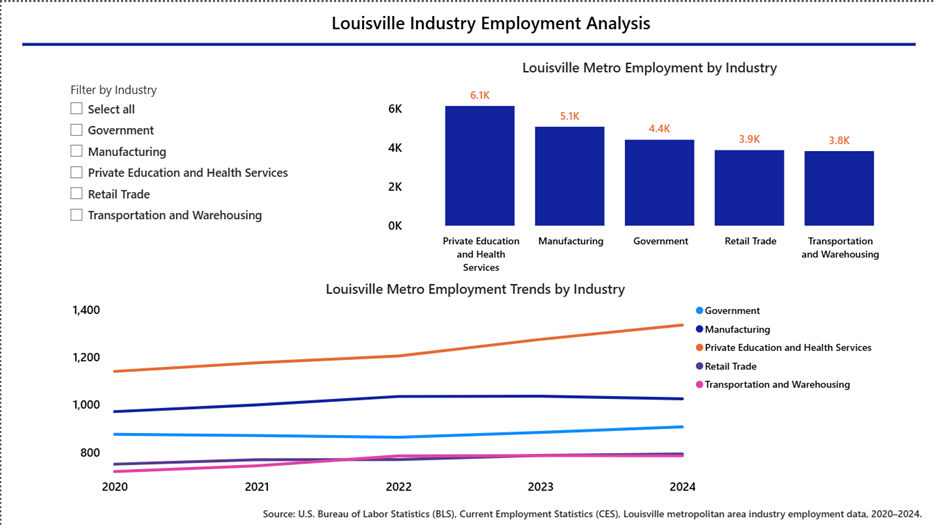

What the dashboard file says about the page in this screenshot:
{"tool":"powerbi","page":{"name":"Louisville Industry Employment Analysis","canvas":[1280,720],"ordinal":1},"visuals":[{"type":"slicer","fields":{"Values":["public industry.industry_name"]},"box":[81.4,102.9,341.4,211.4],"z":0},{"type":"clusteredColumnChart","title":"Louisville Metro Employment by Industry","fields":{"Category":["public industry.industry_name"],"Y":["Sum(public observations.value)"]},"box":[522.9,75.7,728.6,302.9],"z":1000},{"type":"lineChart","title":"Louisville Metro Employment Trends by Industry","fields":{"Category":["public observations.year"],"Y":["Sum(public observations.value)"],"Series":["public industry.industry_name"]},"box":[91.4,378.6,1114.3,305.7],"z":2000},{"type":"textbox","box":[422.9,5.7,494.3,44.3],"z":4000},{"type":"shape","box":[28.6,50,1222.9,15.7],"z":5000},{"type":"textbox","box":[352.9,684.3,917.1,35.7],"z":5001}]}

Visuals, with their boxes in screenshot pixels (x1, y1, x2, y2), scaled from the page's 1280x720 canvas onto the 936x527 screenshot:
slicer - public industry.industry_name: pyautogui.locateOnScreen(60, 75, 309, 230)
"Louisville Metro Employment by Industry" clusteredColumnChart: pyautogui.locateOnScreen(382, 55, 915, 277)
"Louisville Metro Employment Trends by Industry" lineChart: pyautogui.locateOnScreen(67, 277, 882, 501)
textbox: pyautogui.locateOnScreen(309, 4, 671, 37)
shape: pyautogui.locateOnScreen(21, 37, 915, 48)
textbox: pyautogui.locateOnScreen(258, 501, 929, 526)
